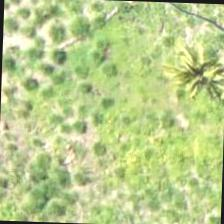Kelapa_Sawit: (150, 26, 223, 120)
